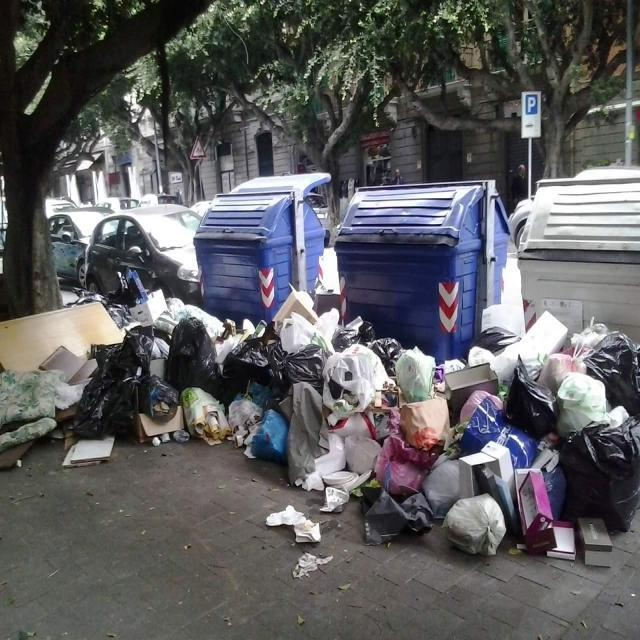garbage: (29, 167, 640, 576)
